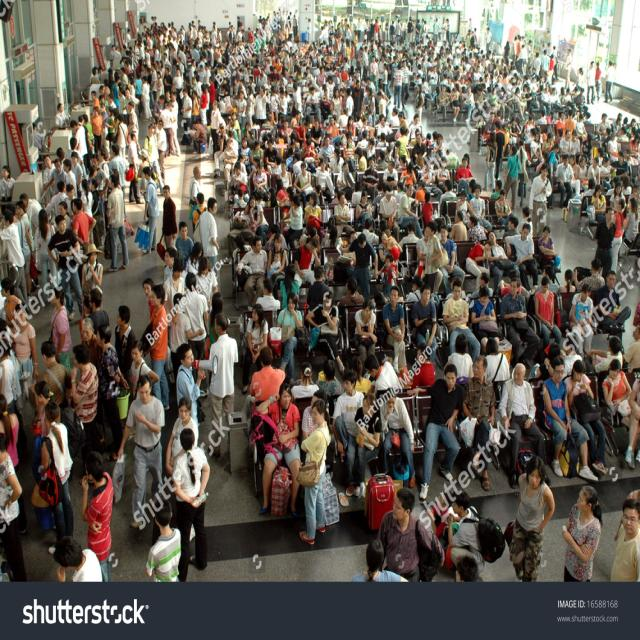body: (80, 8, 541, 106), (406, 362, 464, 502), (117, 373, 166, 529), (544, 356, 599, 482), (497, 363, 552, 487), (503, 455, 555, 582), (376, 488, 446, 582), (255, 382, 301, 520), (172, 427, 212, 583), (562, 359, 608, 476), (40, 402, 74, 556), (171, 272, 210, 397), (461, 354, 496, 492), (299, 399, 332, 544), (208, 312, 240, 458), (46, 212, 88, 322), (80, 451, 115, 582), (0, 431, 29, 583), (601, 358, 640, 470), (332, 369, 366, 496), (562, 485, 603, 582), (379, 387, 417, 489), (175, 342, 218, 431), (500, 276, 540, 370), (69, 344, 101, 458), (446, 489, 488, 574), (442, 279, 482, 368), (144, 283, 171, 412), (305, 290, 345, 377), (244, 344, 286, 424), (169, 292, 204, 387), (146, 498, 182, 583), (0, 210, 30, 312), (353, 392, 381, 498), (142, 276, 171, 375), (165, 395, 199, 478), (338, 232, 378, 302), (275, 290, 303, 388), (241, 303, 270, 395), (13, 302, 39, 404), (349, 539, 410, 582), (235, 235, 268, 314), (609, 498, 640, 582), (38, 340, 74, 410), (595, 270, 631, 340), (290, 362, 320, 444), (503, 222, 538, 292), (7, 202, 32, 300), (382, 285, 408, 379), (52, 535, 103, 582), (412, 284, 438, 376), (105, 173, 129, 272), (132, 165, 158, 254), (192, 197, 220, 277), (128, 339, 160, 408), (48, 287, 73, 374), (470, 284, 500, 354), (534, 276, 562, 350), (338, 276, 365, 351), (438, 224, 465, 298), (80, 242, 106, 318), (423, 221, 449, 297), (486, 230, 515, 298), (414, 226, 443, 294), (34, 208, 58, 289), (528, 162, 553, 239), (362, 353, 402, 401), (15, 200, 34, 300), (352, 298, 378, 371), (569, 282, 594, 356), (114, 304, 136, 388), (544, 335, 583, 381), (612, 482, 640, 546), (0, 338, 23, 415), (90, 155, 110, 240), (0, 393, 20, 478), (227, 201, 256, 258), (306, 266, 331, 332), (444, 334, 474, 388), (426, 490, 459, 539), (586, 334, 624, 376), (301, 388, 331, 441), (0, 277, 23, 346), (594, 206, 613, 287), (397, 183, 424, 240), (71, 198, 98, 255), (194, 256, 219, 316), (499, 144, 521, 210), (444, 276, 466, 342), (30, 380, 55, 438), (293, 238, 321, 288), (609, 198, 627, 275), (79, 318, 103, 375), (280, 194, 304, 251), (378, 183, 400, 245), (466, 240, 492, 292), (378, 231, 402, 287), (537, 225, 559, 285), (159, 102, 182, 159), (107, 142, 129, 201), (127, 130, 144, 206), (409, 342, 436, 389), (206, 290, 224, 360), (571, 257, 606, 293), (321, 219, 341, 282), (96, 146, 110, 233), (544, 143, 562, 209), (483, 336, 510, 380), (248, 196, 270, 250), (86, 287, 110, 336), (612, 110, 640, 152), (378, 187, 400, 240), (420, 159, 443, 209), (469, 184, 492, 234), (248, 195, 270, 247), (161, 184, 178, 250), (315, 358, 342, 399), (547, 84, 571, 130), (555, 152, 574, 208), (293, 161, 313, 213), (455, 189, 479, 232), (188, 165, 203, 233), (535, 342, 561, 381), (629, 372, 640, 464), (482, 130, 498, 193), (340, 212, 364, 253), (314, 158, 334, 207), (361, 156, 380, 207), (89, 177, 102, 251), (19, 192, 44, 230), (266, 234, 288, 277), (174, 220, 194, 267), (44, 180, 68, 219), (334, 192, 354, 238), (280, 264, 300, 310), (70, 120, 87, 174), (621, 325, 640, 373), (155, 119, 168, 189), (0, 165, 17, 218), (144, 125, 159, 185), (377, 254, 397, 299), (350, 355, 372, 395), (137, 147, 152, 204), (212, 125, 228, 178), (126, 100, 140, 160), (255, 278, 281, 310), (534, 263, 560, 295), (512, 34, 532, 75), (516, 139, 530, 197), (622, 198, 640, 243), (81, 178, 94, 240), (336, 161, 356, 201), (494, 188, 514, 228), (438, 178, 458, 218), (221, 88, 237, 138), (502, 215, 519, 262), (90, 106, 106, 155), (261, 224, 289, 252), (209, 98, 221, 162), (494, 120, 506, 182), (184, 241, 205, 276), (336, 230, 357, 264), (467, 214, 489, 246), (188, 120, 208, 155), (590, 183, 607, 224), (274, 178, 290, 221), (400, 161, 418, 199), (372, 182, 390, 220), (232, 234, 254, 265), (228, 161, 248, 195), (62, 158, 78, 200), (499, 268, 522, 297), (48, 158, 66, 195), (355, 190, 373, 227), (398, 219, 420, 249), (253, 86, 269, 127), (329, 146, 345, 187), (70, 150, 83, 200), (469, 271, 493, 298), (292, 152, 308, 192), (448, 210, 468, 242), (140, 74, 153, 123), (600, 156, 618, 191), (82, 112, 94, 164), (115, 114, 128, 162), (253, 162, 268, 203), (304, 191, 322, 225), (516, 206, 534, 240), (385, 228, 403, 262), (610, 150, 629, 182), (609, 182, 628, 214), (342, 136, 357, 176), (64, 137, 84, 167), (357, 218, 379, 245), (306, 86, 322, 123), (32, 122, 44, 171), (172, 68, 184, 116), (238, 138, 252, 179), (163, 246, 178, 284), (436, 156, 451, 194), (192, 192, 208, 227), (352, 78, 364, 124), (399, 59, 410, 109), (180, 87, 192, 132), (224, 139, 236, 184), (301, 138, 316, 173), (575, 114, 588, 154), (42, 154, 56, 191), (462, 86, 476, 123), (405, 276, 424, 303), (382, 160, 399, 190), (568, 128, 581, 167), (512, 87, 526, 123), (596, 112, 612, 143), (438, 85, 451, 123), (267, 86, 280, 124), (575, 156, 588, 194), (393, 64, 403, 113), (291, 83, 302, 127), (414, 84, 424, 132), (266, 250, 282, 280), (408, 112, 423, 144), (601, 126, 613, 166), (413, 133, 428, 165), (264, 139, 278, 173), (580, 176, 597, 204), (568, 154, 579, 197), (456, 158, 474, 184), (628, 131, 640, 170), (558, 268, 576, 294), (421, 131, 433, 170), (394, 111, 410, 140), (621, 176, 632, 218), (586, 59, 596, 105), (320, 88, 332, 126), (105, 105, 115, 150), (199, 83, 208, 133), (604, 59, 614, 104), (310, 118, 324, 150), (575, 88, 589, 120), (394, 140, 410, 167), (231, 111, 242, 150), (318, 135, 335, 160), (54, 102, 69, 130), (530, 132, 544, 162), (276, 89, 288, 124), (279, 160, 292, 192), (324, 225, 342, 248), (190, 90, 200, 131), (484, 110, 496, 144), (421, 191, 433, 225), (58, 201, 72, 230), (306, 227, 321, 254), (451, 83, 461, 123), (66, 183, 78, 216), (331, 89, 343, 122), (586, 156, 600, 184), (366, 87, 376, 126), (564, 48, 573, 91), (564, 108, 576, 140), (162, 66, 173, 100), (358, 118, 375, 140), (278, 185, 295, 207), (540, 86, 552, 117), (111, 107, 121, 144), (559, 128, 572, 156), (580, 133, 593, 161), (523, 114, 536, 142), (386, 56, 394, 101), (377, 117, 393, 139), (444, 148, 460, 170), (237, 90, 246, 129), (369, 56, 378, 94), (378, 54, 388, 88), (251, 139, 264, 165), (246, 84, 253, 132), (594, 60, 602, 102), (295, 120, 307, 148), (232, 188, 248, 209), (325, 116, 340, 138), (376, 91, 387, 121), (208, 76, 215, 123), (354, 147, 367, 172), (536, 151, 549, 176), (248, 155, 261, 180), (77, 115, 89, 142), (237, 153, 249, 180), (375, 149, 389, 172), (380, 62, 388, 102), (364, 105, 374, 137), (154, 70, 163, 105), (605, 176, 620, 197), (344, 87, 354, 118), (330, 187, 348, 204), (572, 67, 584, 92), (541, 134, 555, 155), (265, 187, 279, 208), (540, 48, 550, 77), (280, 120, 292, 144), (575, 136, 584, 168), (110, 168, 123, 190), (628, 184, 639, 210), (396, 126, 409, 148), (509, 115, 522, 137), (414, 180, 427, 202), (81, 294, 91, 322), (301, 130, 315, 150), (354, 114, 364, 142), (314, 183, 326, 206), (434, 133, 445, 158), (242, 155, 261, 169), (484, 27, 492, 60), (394, 182, 406, 204), (336, 107, 348, 129), (632, 294, 640, 327), (88, 166, 98, 192), (466, 178, 477, 201), (264, 131, 277, 150), (345, 115, 356, 137), (290, 110, 302, 130), (241, 121, 253, 141), (388, 107, 400, 127), (287, 139, 300, 157), (90, 90, 101, 111), (356, 130, 368, 149), (390, 247, 402, 266), (548, 54, 555, 86), (260, 114, 274, 130), (376, 131, 389, 148), (366, 138, 376, 160), (553, 45, 559, 81), (525, 86, 534, 110), (533, 52, 541, 76), (553, 128, 564, 145), (410, 128, 420, 146), (385, 146, 395, 164), (536, 110, 548, 125), (504, 40, 511, 65), (264, 132, 274, 149), (399, 154, 409, 171), (596, 147, 604, 168), (526, 128, 536, 144), (504, 120, 514, 136), (56, 146, 66, 161), (532, 147, 542, 162), (629, 170, 640, 183), (463, 153, 471, 170), (431, 130, 439, 146), (126, 28, 131, 51), (546, 41, 552, 58), (584, 112, 594, 122), (345, 131, 352, 139), (379, 113, 384, 122), (613, 61, 618, 70)
